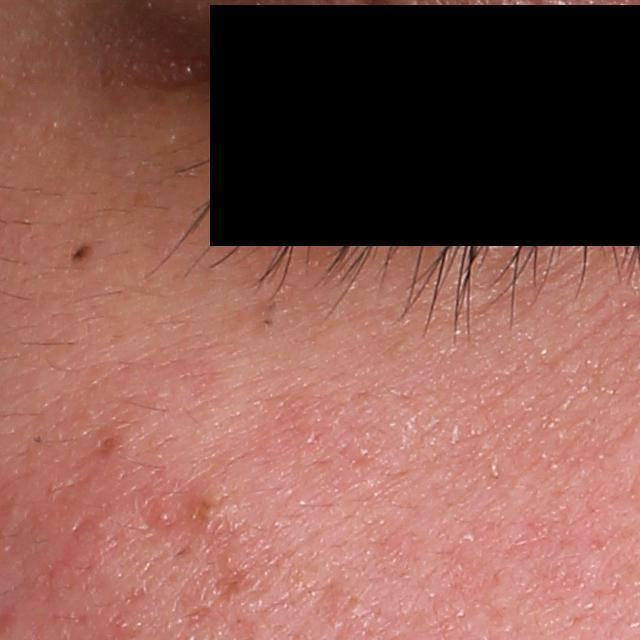nevus: (66, 241, 94, 262)
